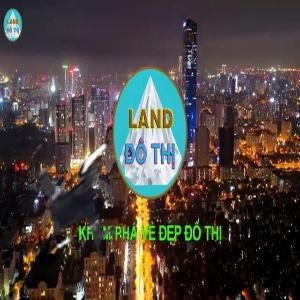drone: (16, 122, 163, 269)
